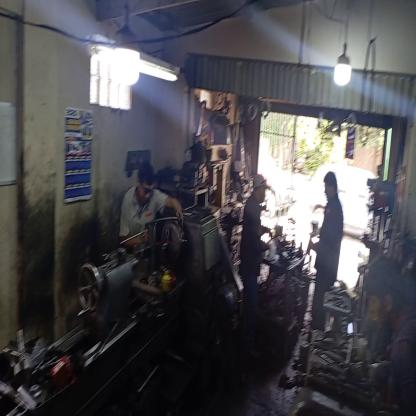lentes: (137, 176, 153, 196)
